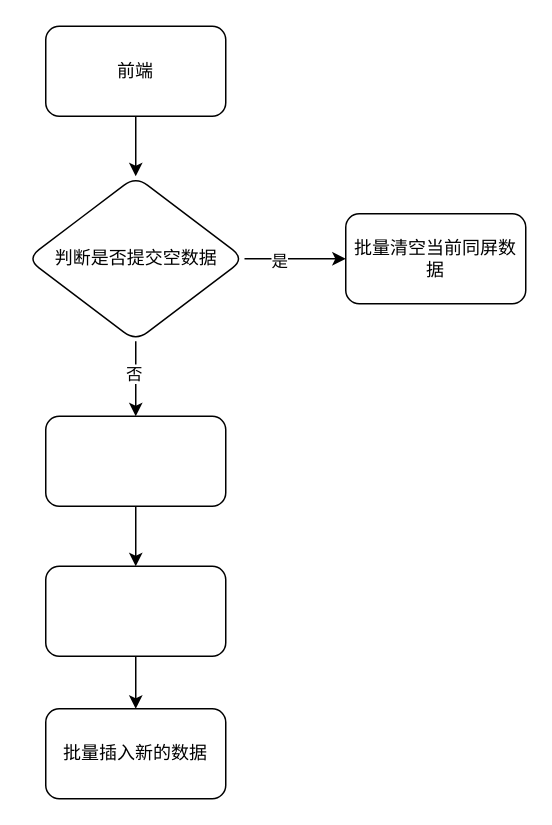
The diagram is 552 pixels wide and 825 high, and some of its shapes have lost their labels. Here are the shapes that lost their labels. From the top down, the box of each, then its label:
(44, 415, 226, 506): 根据类型校验去重id是否有效
(44, 565, 226, 656): 批量删除当前记录
